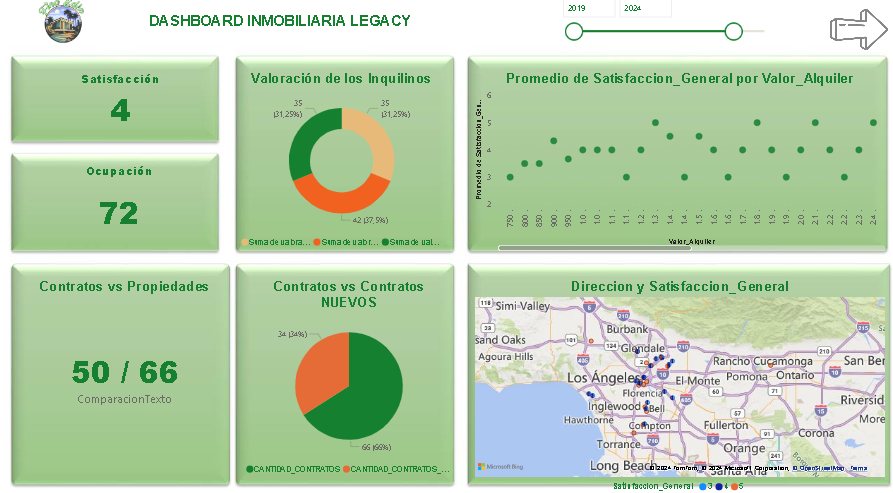

What the dashboard file says about the page in this screenshot:
{"tool":"powerbi","page":{"name":"Principal","canvas":[1280,720],"ordinal":0},"visuals":[{"type":"card","title":"Satisfacción ","fields":{"Values":["legacy_inmobiliaria contratos.Promedio_satisfacc"]},"box":[105.7,111.6,134,86.3],"z":0},{"type":"map","fields":{"Category":["legacy_inmobiliaria propiedades.Direccion"],"Series":["legacy_inmobiliaria contratos.Satisfaccion_General"]},"box":[669.8,406.8,591.8,313.5],"z":1000},{"type":"image","box":[0,1.4,180,82.2],"z":2000},{"type":"textbox","box":[157.3,25.5,483.3,55.3],"z":3000},{"type":"card","title":"Contratos vs Propiedades","fields":{"Values":["legacy_inmobiliaria propiedades.ComparacionTexto"]},"box":[31.4,406.6,296.8,261.5],"z":4000},{"type":"donutChart","title":"Valoración de los Inquilinos","fields":{"Y":["Sum(legacy_inmobiliaria inquilinos.valoracion_rec)","Sum(legacy_inmobiliaria inquilinos.valoracion_rel)","Sum(legacy_inmobiliaria inquilinos.valoracion_res)"]},"box":[334.9,111.6,305.1,262],"z":5000},{"type":"card","title":"Ocupación","fields":{"Values":["legacy_inmobiliaria publicaciones_alquileres.Ocupación Actual"]},"box":[59.5,242.8,224,117.5],"z":7000},{"type":"slicer","fields":{"Values":["calendario.año"]},"box":[787.6,1.5,321.1,82.6],"z":8000},{"type":"actionButton","box":[1179.1,26,82.6,58.1],"z":9000},{"type":"scatterChart","fields":{"X":["legacy_inmobiliaria contratos.Valor_Alquiler"],"Y":["Avg(legacy_inmobiliaria contratos.Satisfaccion_General)"]},"box":[669.8,111.6,591.8,261.5],"z":10000},{"type":"pieChart","title":"Contratos vs Contratos NUEVOS","fields":{"Y":["legacy_inmobiliaria contratos.CANTIDAD_CONTRATOS","legacy_inmobiliaria contratos.CANTIDAD_CONTRATOS_NUEVOS"]},"box":[343.9,406.6,305.9,288.9],"z":10001}]}

Visuals, with their boxes in screenshot pixels (x1, y1, x2, y2), scaled from the page's 1280x720 canvas onto the 893x493 screenshot:
"Satisfacción " card: {"left": 74, "top": 76, "right": 167, "bottom": 136}
map - legacy_inmobiliaria propiedades.Direccion x legacy_inmobiliaria contratos.Satisfaccion_General: {"left": 467, "top": 279, "right": 880, "bottom": 492}
image: {"left": 0, "top": 1, "right": 126, "bottom": 57}
textbox: {"left": 110, "top": 17, "right": 447, "bottom": 55}
"Contratos vs Propiedades" card: {"left": 22, "top": 278, "right": 229, "bottom": 457}
"Valoración de los Inquilinos" donutChart: {"left": 234, "top": 76, "right": 446, "bottom": 256}
"Ocupación" card: {"left": 42, "top": 166, "right": 198, "bottom": 247}
slicer - calendario.año: {"left": 549, "top": 1, "right": 773, "bottom": 58}
actionButton: {"left": 823, "top": 18, "right": 880, "bottom": 58}
scatterChart - legacy_inmobiliaria contratos.Valor_Alquiler x Avg(legacy_inmobiliaria contratos.Satisfaccion_General): {"left": 467, "top": 76, "right": 880, "bottom": 255}
"Contratos vs Contratos NUEVOS" pieChart: {"left": 240, "top": 278, "right": 453, "bottom": 476}
